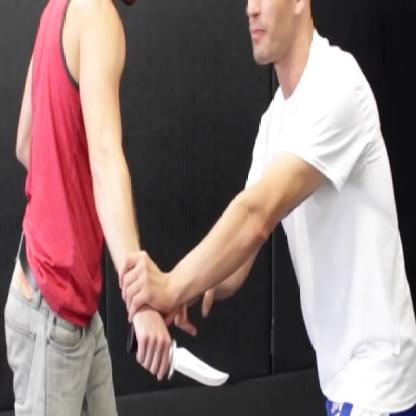knife: (124, 323, 238, 400)
